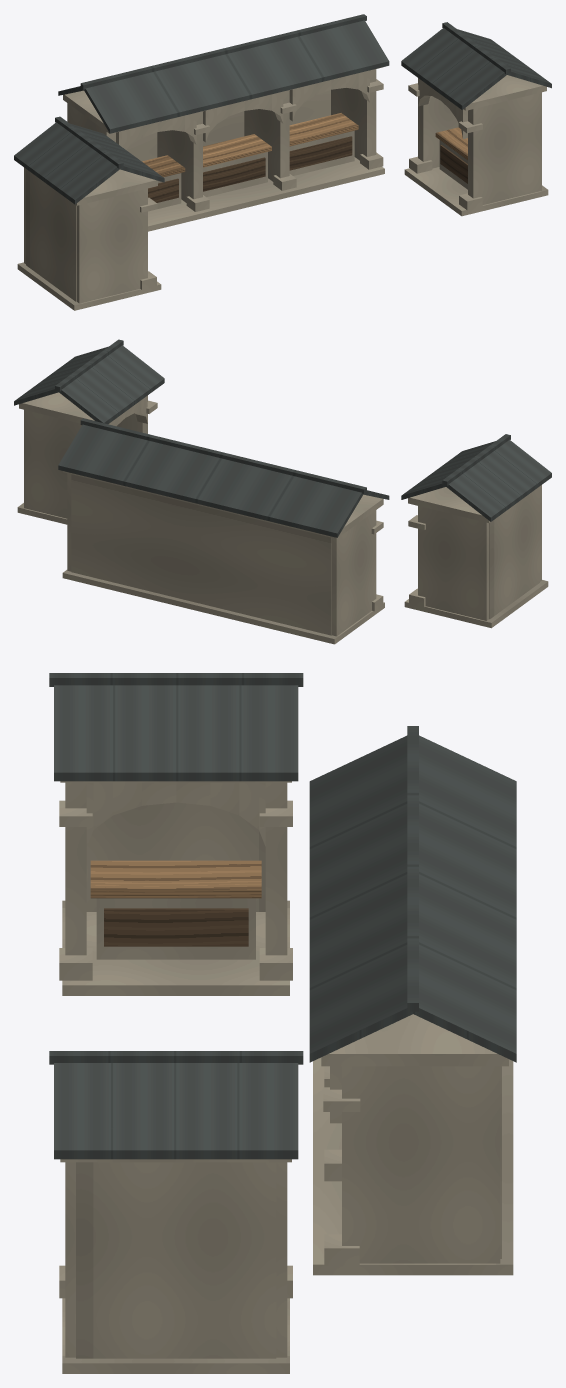
The picture shows the model from 3 angles, top to bottom: view 1: azimuth 30°, elevation 25°; view 2: azimuth 150°, elevation 25°; view 3: azimuth 270°, elevation 25°; orthographic projection. The views are drawn at different scales.
Parts seen in each view (by area): view 1: bangui; view 2: bangui; view 3: bangui.
Boxes of the visible parts, x1=… form: bangui: x1=14, y1=14, x2=551, y2=310; bangui: x1=14, y1=339, x2=551, y2=644; bangui: x1=49, y1=673, x2=516, y2=1373.
Bounding box in the file's own units: 7.4 × 2.06 × 3.14.
1 material, 1 textured.
